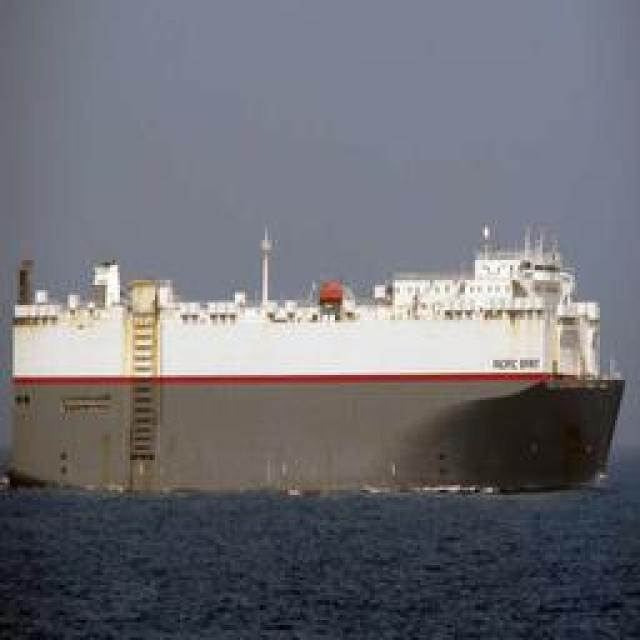CIV_Ship: (5, 229, 623, 499)
